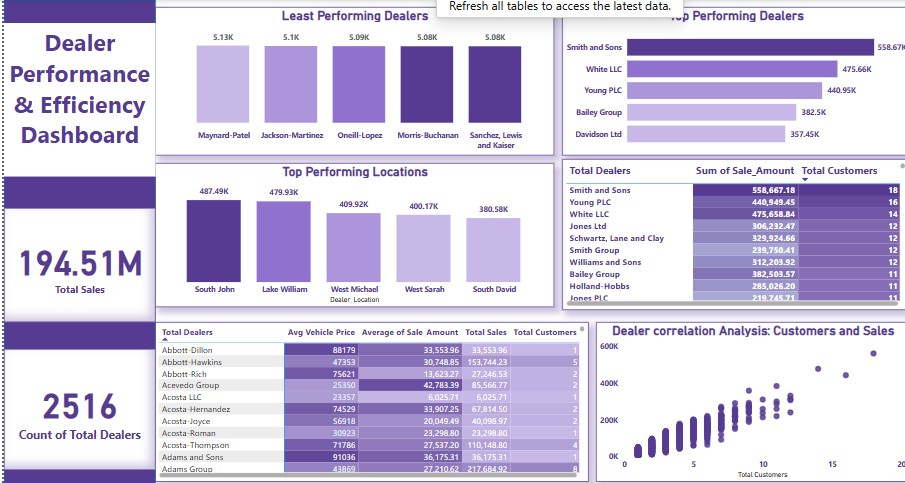

The dashboard page shown, as its layout file describes it:
{"tool":"powerbi","page":{"name":"Dealer Performance & Efficiency","canvas":[1445,785],"ordinal":3},"visuals":[{"type":"clusteredBarChart","title":"Top Performing Dealers","fields":{"Category":["Sheet 1.Dealer_Name"],"Y":["Sum(Sheet 1.Sale_Amount)"]},"box":[890,11.7,555,236.7],"z":0},{"type":"tableEx","fields":{"Values":["Sheet 1.Dealer_Name","Sum(Sheet 1.Sale_Amount)","Sheet 1.Total Customers"]},"box":[890.3,253.7,553.6,240.9],"z":1000},{"type":"columnChart","title":"Least Performing Dealers","fields":{"Category":["Sheet 1.Dealer_Name"],"Y":["Sum(Sheet 1.Sale_Amount)"]},"box":[241.7,11.7,636.7,236.7],"z":2000},{"type":"clusteredColumnChart","title":"Top Performing Locations","fields":{"Category":["Sheet 1.Dealer_Location"],"Y":["Sheet 1.Total Sales"]},"box":[241.7,260,636.7,230],"z":3000},{"type":"pivotTable","fields":{"Rows":["Sheet 1.Dealer_Name"],"Values":["Sheet 1.Avg Vehicle Price","Avg(Sheet 1.Sale_Amount)","Sheet 1.Total Sales","Sheet 1.Total Customers"]},"box":[241.7,513.3,691.7,255],"z":4000},{"type":"scatterChart","title":"Dealer correlation Analysis: Customers and Sales","fields":{"X":["Sheet 1.Total Customers"],"Y":["Sheet 1.Total Sales"],"Category":["Sheet 1.Dealer_Name"]},"box":[945,513.3,500,255],"z":5000},{"type":"shape","box":[0,0,241.7,785],"z":6000},{"type":"textbox","box":[0,36.7,241.7,245],"z":7000},{"type":"card","fields":{"Values":["Sheet 1.Total Sales"]},"box":[0,331.7,241.7,181.7],"z":9000},{"type":"card","fields":{"Values":["Count(Sheet 1.Total Dealers)"]},"box":[0,556.7,241.7,193.3],"z":9500}]}

Visuals, with their boxes in screenshot pixels (x1, y1, x2, y2), scaled from the page's 1445x785 canvas onto the 905x483 screenshot:
"Top Performing Dealers" clusteredBarChart: (557, 7, 904, 153)
tableEx - Sheet 1.Dealer_Name x Sum(Sheet 1.Sale_Amount): (558, 156, 904, 304)
"Least Performing Dealers" columnChart: (151, 7, 550, 153)
"Top Performing Locations" clusteredColumnChart: (151, 160, 550, 301)
pivotTable - Sheet 1.Dealer_Name x Sheet 1.Avg Vehicle Price: (151, 316, 585, 473)
"Dealer correlation Analysis: Customers and Sales" scatterChart: (592, 316, 904, 473)
shape: (0, 0, 151, 482)
textbox: (0, 23, 151, 173)
card - Sheet 1.Total Sales: (0, 204, 151, 316)
card - Count(Sheet 1.Total Dealers): (0, 343, 151, 461)
